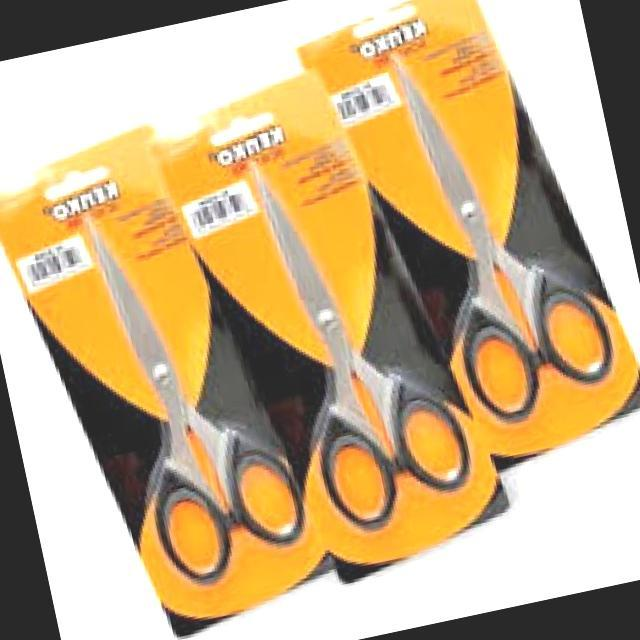Scissors: (364, 0, 640, 502), (212, 108, 504, 560), (50, 172, 334, 626)
